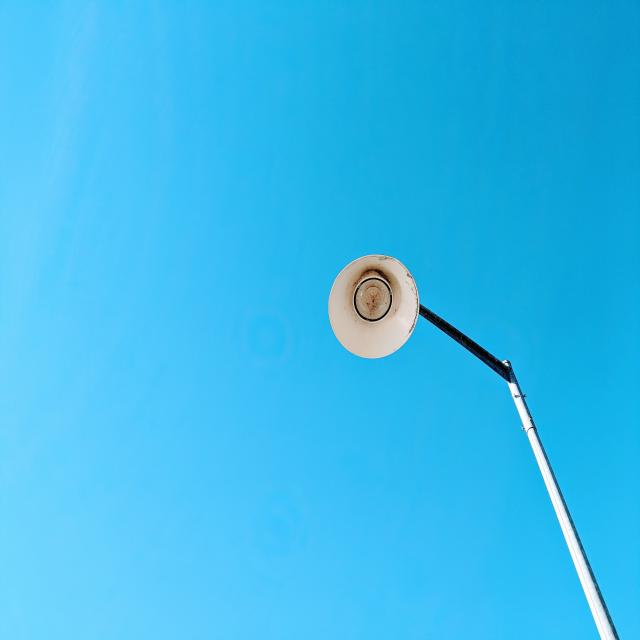Street Light: (327, 253, 621, 640)
